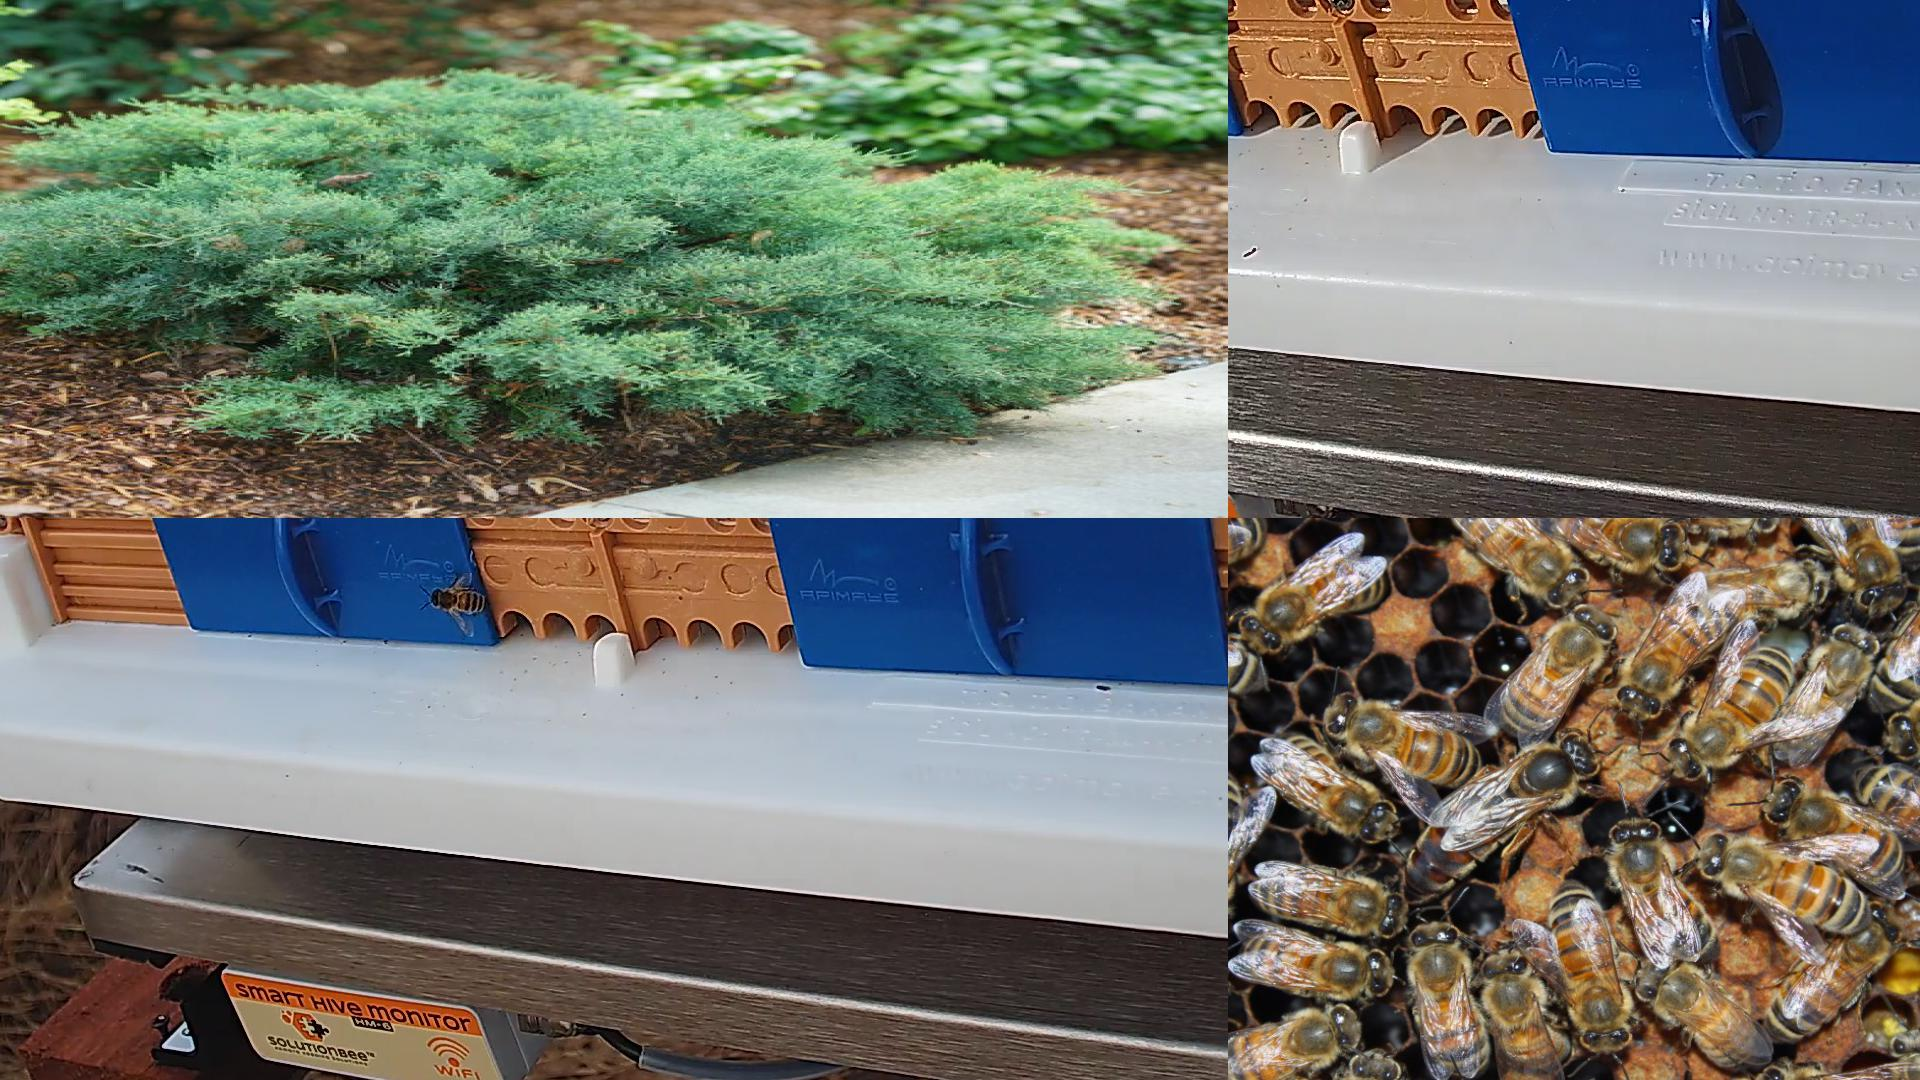bee: (1765, 902, 1902, 1040), (1706, 831, 1870, 932), (1610, 820, 1723, 964), (1674, 645, 1794, 772), (1551, 883, 1635, 1053), (1776, 624, 1881, 759), (1504, 606, 1615, 731), (1765, 781, 1905, 879), (1635, 962, 1758, 1071), (1326, 696, 1480, 783), (1282, 730, 1397, 840), (1245, 562, 1389, 646), (1623, 598, 1722, 718), (1409, 925, 1488, 1074), (1242, 926, 1395, 1000), (1258, 859, 1408, 932), (1480, 950, 1572, 1067), (1463, 518, 1586, 602), (1228, 1004, 1356, 1080), (1693, 560, 1826, 615), (1824, 518, 1904, 608), (1552, 518, 1688, 568), (1869, 597, 1920, 710), (1856, 765, 1919, 842), (1228, 638, 1270, 694), (1228, 518, 1274, 566), (1228, 773, 1246, 894), (1882, 705, 1920, 759), (1885, 1023, 1919, 1079), (1348, 1052, 1404, 1079), (1690, 518, 1778, 535), (432, 587, 487, 613), (1759, 1061, 1827, 1080)
queen: (1401, 737, 1601, 900)
